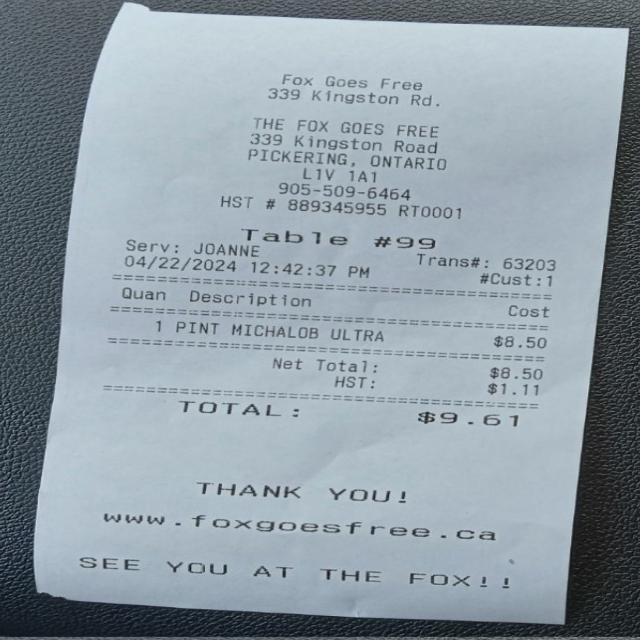item: (171, 317, 556, 352)
store_name: (263, 66, 429, 95)
total_amount: (174, 394, 550, 430)
transaction_date: (118, 251, 243, 279)
